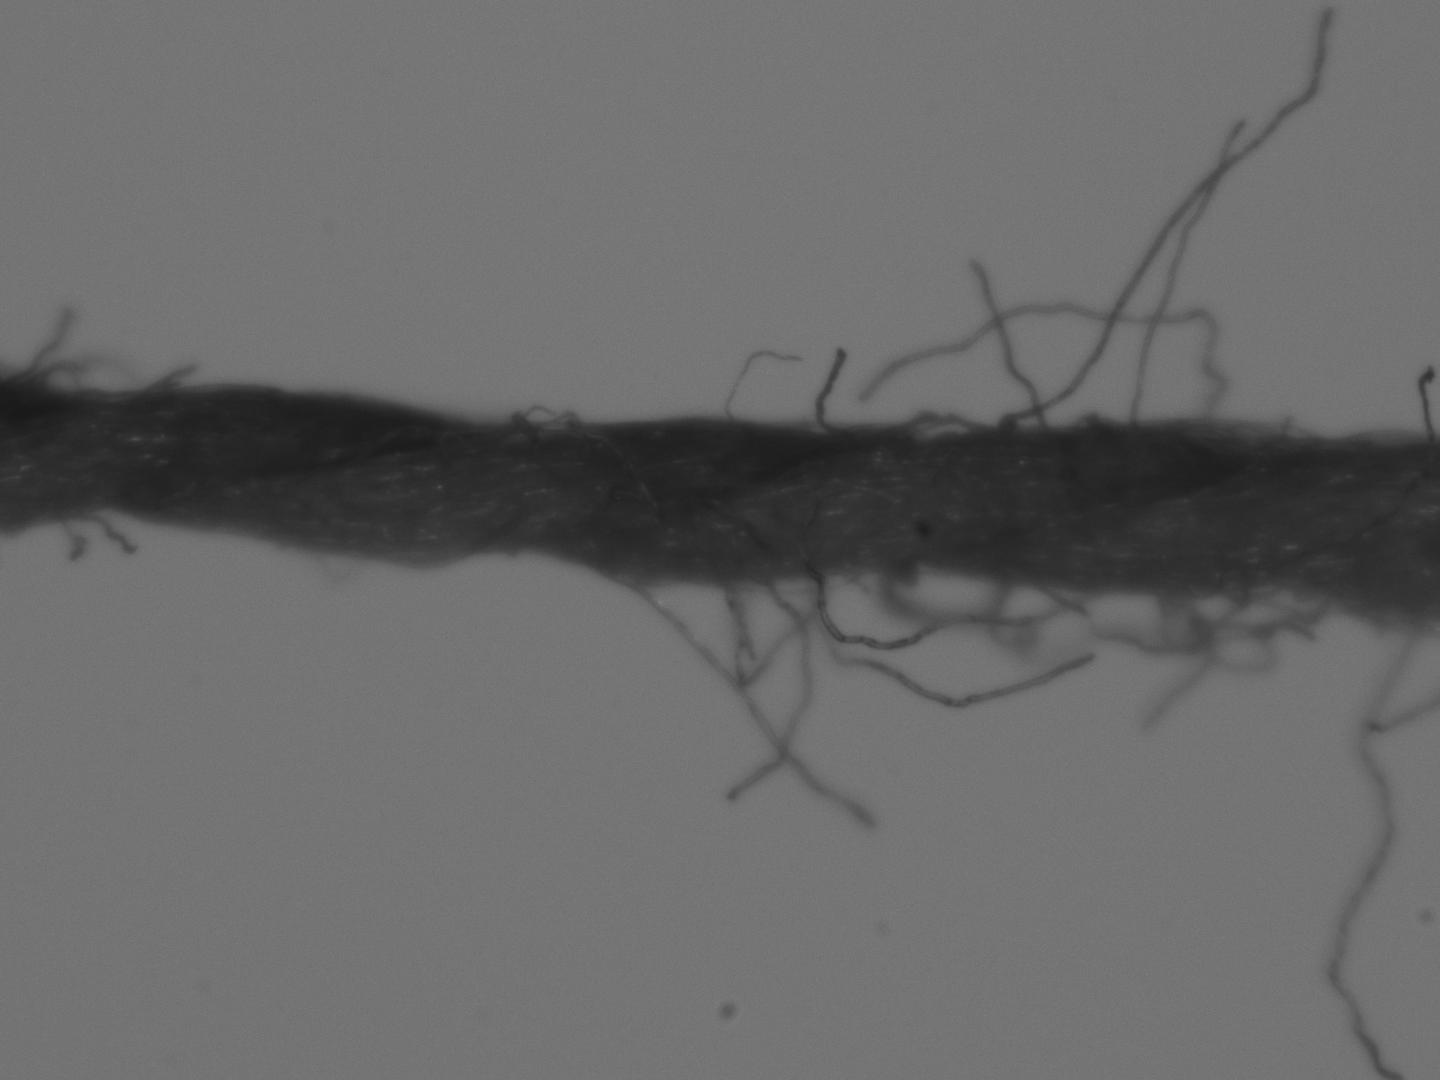loop_fiber: (1035, 582, 1337, 678), (814, 563, 1104, 651), (853, 558, 1120, 640), (715, 575, 861, 684), (42, 352, 135, 390), (897, 408, 1001, 442), (497, 400, 585, 432)
protruding_fiber: (1006, 6, 1336, 422), (613, 573, 883, 829), (1321, 624, 1424, 1079), (863, 301, 1228, 428), (803, 572, 1098, 710), (1128, 110, 1252, 429), (725, 572, 815, 795), (967, 254, 1051, 429), (1143, 584, 1220, 735), (722, 348, 807, 425), (12, 303, 76, 378), (818, 337, 847, 444), (71, 513, 143, 554), (1414, 368, 1439, 438), (143, 366, 202, 393), (52, 517, 85, 562)
